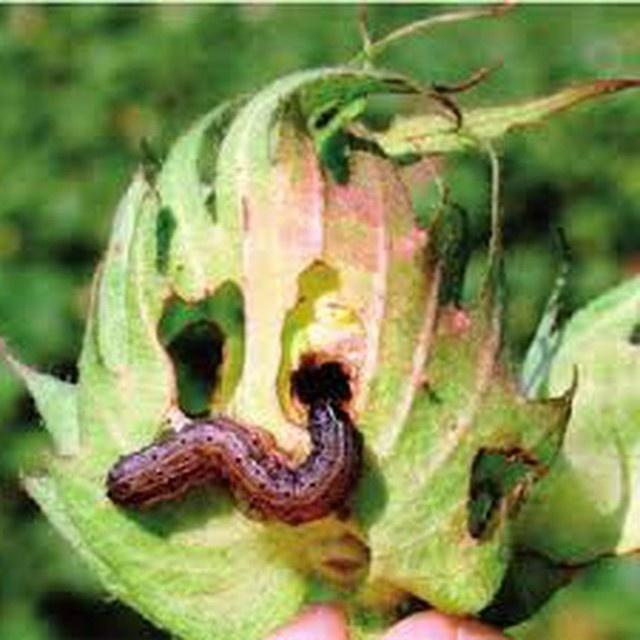gusano_cogollero: (102, 392, 368, 526)
